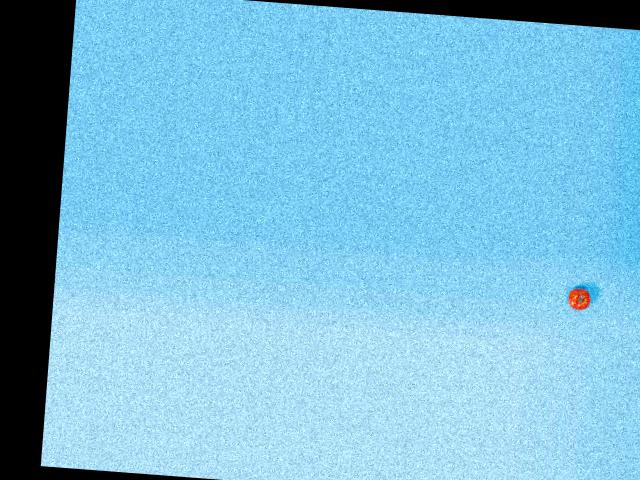tomato: (568, 287, 592, 311)
